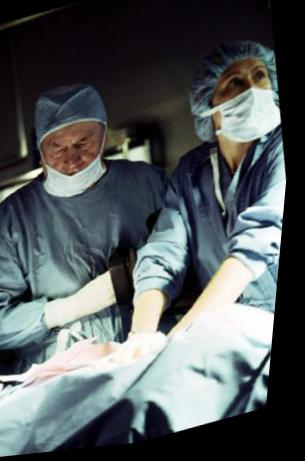OK: (212, 63, 282, 142)
WRONG: (41, 121, 113, 197)
